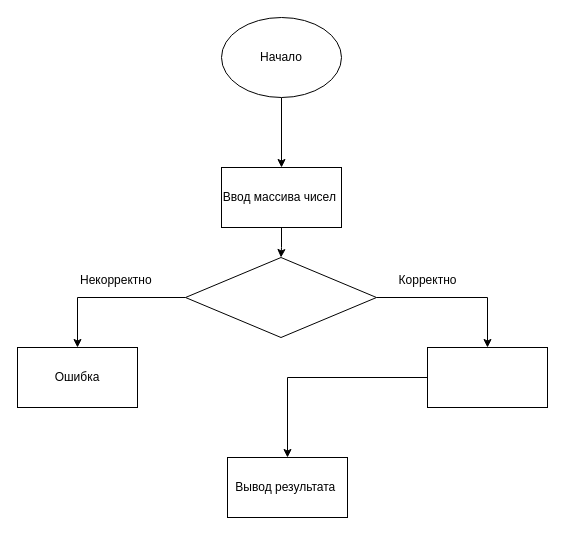
Image size: 565x535. Some labels were removed from this diagram. The shapes that lost their labels are listed below. From the top down, each one's centre as x and y in pixels, then its label:
At (280,297): "Проверка корректности ввода".
At (487,377): "Вычисление суммы".
